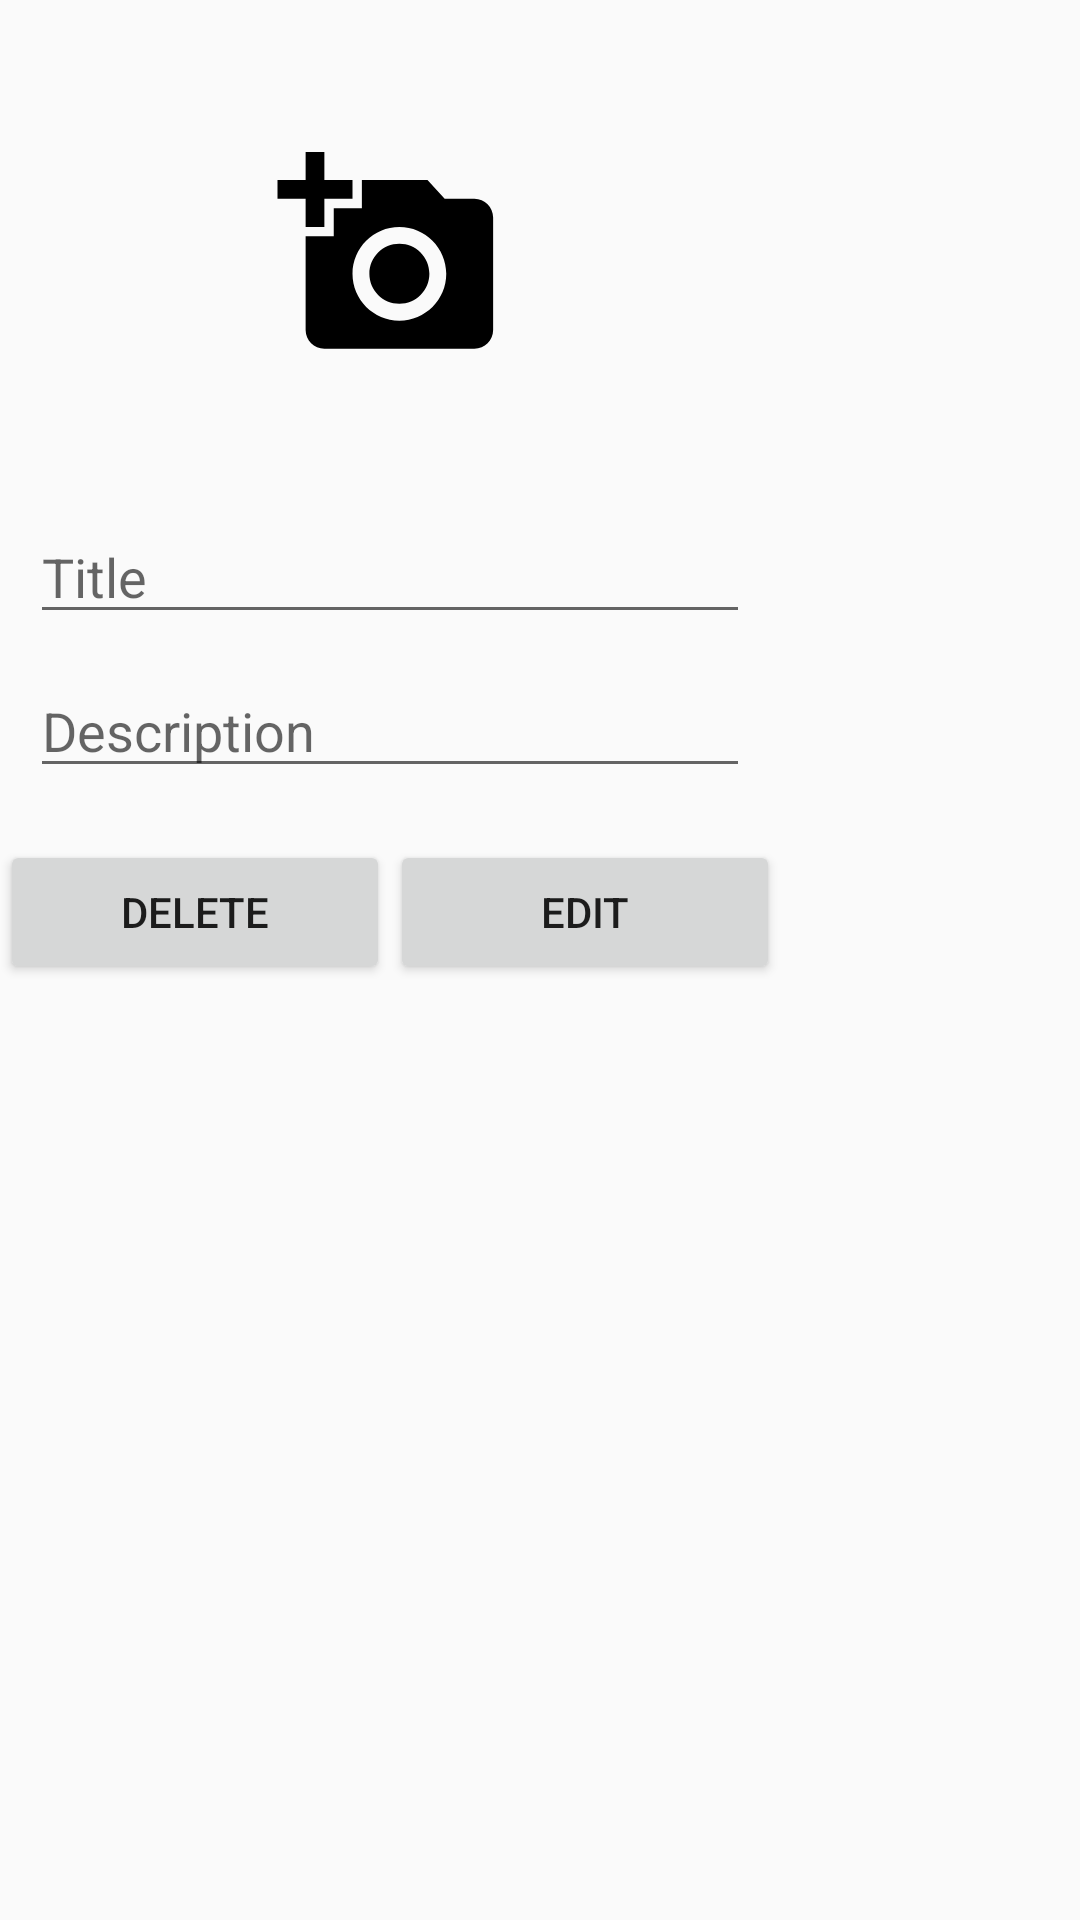

Named icons in this screenshot (1080px x 1920px) and their bounding boxes, region(x1, y1, x2, y2):
Add or view photo: region(277, 152, 494, 349)
